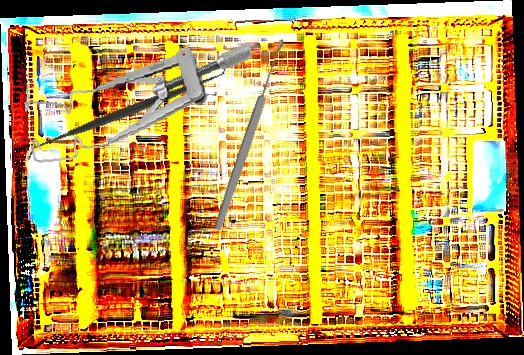Spatula Surgical: (20, 61, 234, 163)
Speculum: (20, 41, 261, 164)
Surgical Spoon: (211, 37, 289, 233)
